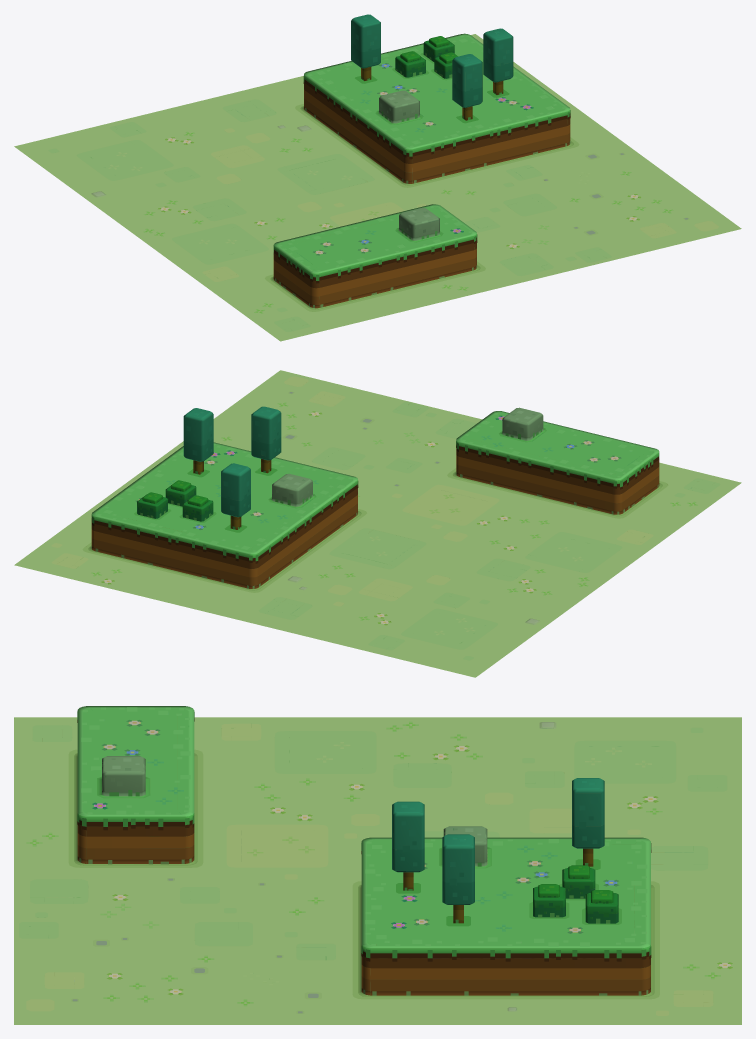
File: C_grass1_06.fbx
3 renders of one model, top to bottom at view 1: azimuth 30°, elevation 25°; view 2: azimuth 150°, elevation 25°; view 3: azimuth 270°, elevation 25°, orthographic. The views are drawn at different scales.
Visible parts, largest first — view 1: C_grass1_06.002; view 2: C_grass1_06.002; view 3: C_grass1_06.002.
Part boxes in pixels (x1,y1,x2,y2): C_grass1_06.002: (14,14,741,341); C_grass1_06.002: (14,370,741,677); C_grass1_06.002: (14,706,741,1024).
Size of the model in its own units: 50 by 9.93 by 50.
